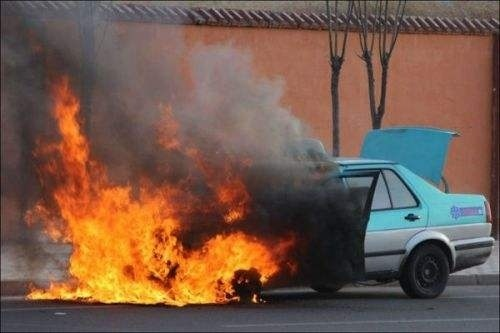fire: (13, 54, 315, 318)
